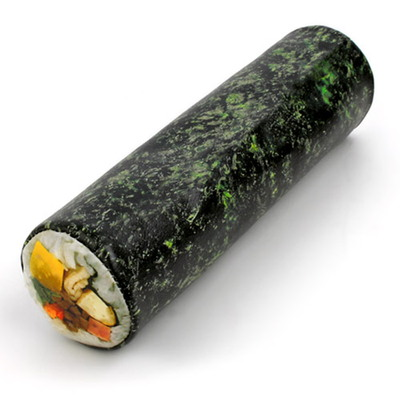gimbab: (19, 24, 377, 357)
